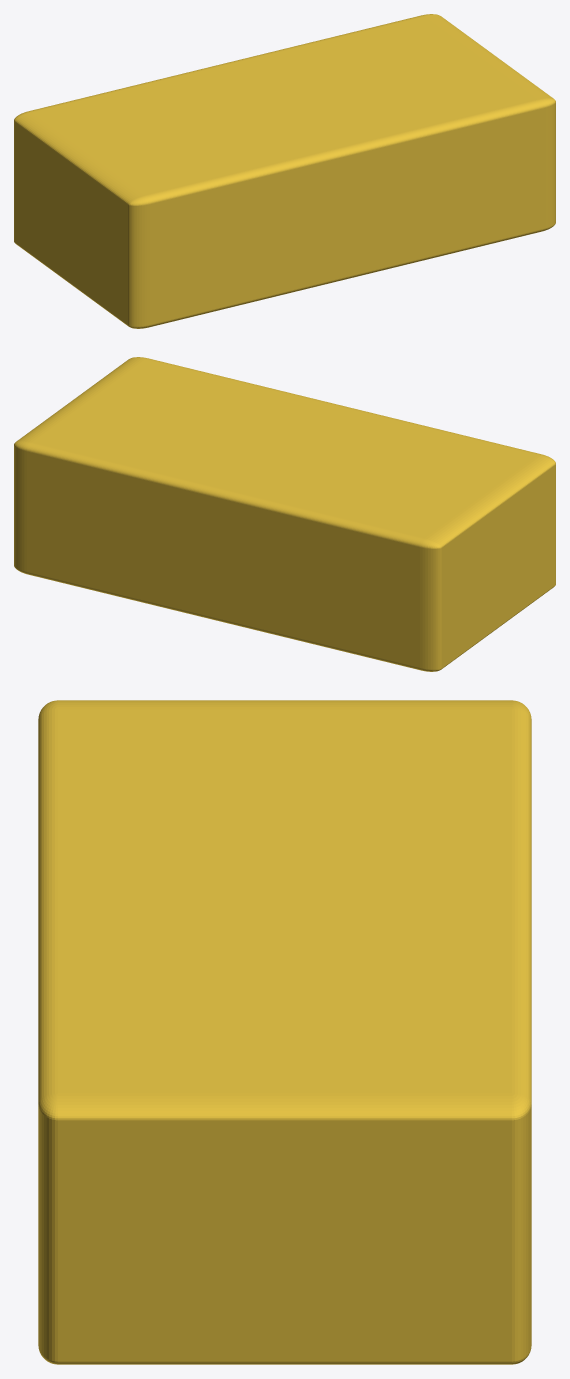
Rendered from body.dae.
The picture shows the model from 3 angles, top to bottom: view 1: azimuth 30°, elevation 25°; view 2: azimuth 150°, elevation 25°; view 3: azimuth 270°, elevation 25°; orthographic projection. The views are drawn at different scales.
Visible parts, largest first — view 1: Body; view 2: Body; view 3: Body.
Boxes of the visible parts, x1,y1,x2,y2 form: Body: (14,14,555,328); Body: (14,357,555,671); Body: (38,700,531,1364).
Size of the model in its own units: 1.5 by 0.75 by 0.44.
